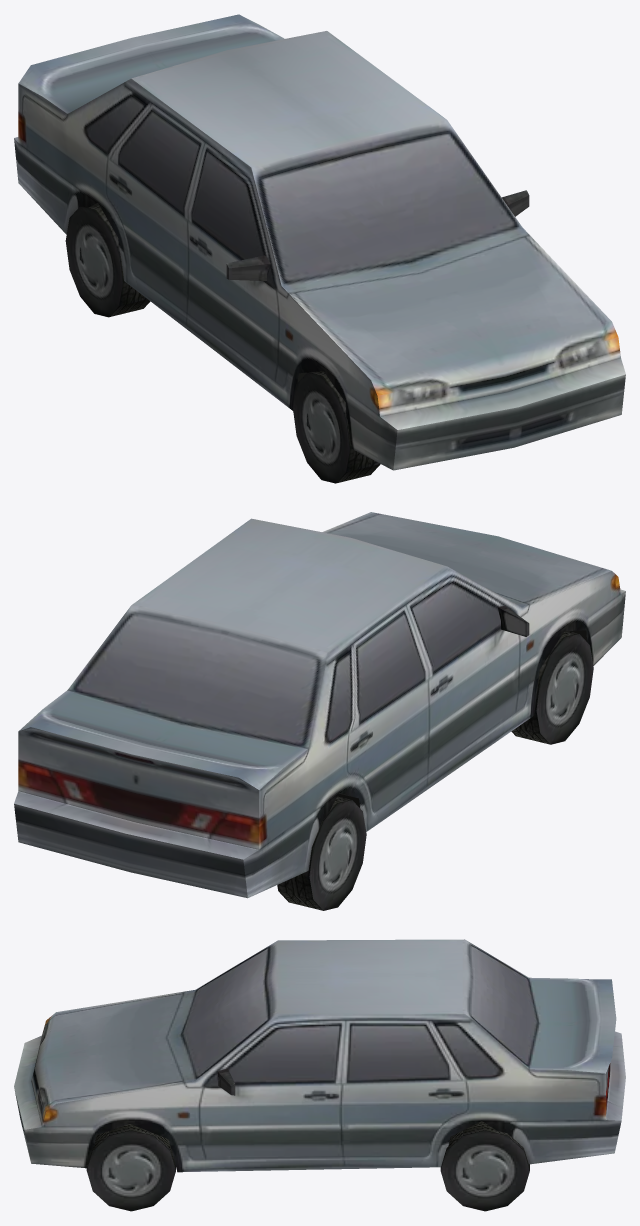
The model's file is sedan_silver.glb.
3 renders of one model, top to bottom at view 1: azimuth 30°, elevation 25°; view 2: azimuth 150°, elevation 25°; view 3: azimuth 270°, elevation 25°, orthographic. The views are drawn at different scales.
Parts seen in each view (by area): view 1: Body; view 2: Body; view 3: Body.
Part boxes in pixels (x1=…): Body: x1=14, y1=14, x2=625, y2=483; Body: x1=14, y1=512, x2=625, y2=910; Body: x1=14, y1=939, x2=625, y2=1211.
Bounding box in the file's own units: 1.85 × 1.43 × 4.2.
2 materials, 1 textured.
